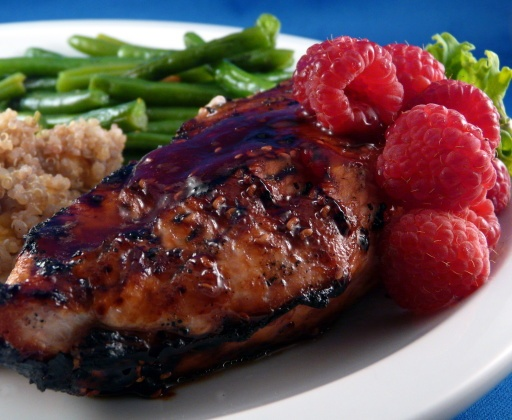background: (0, 8, 410, 262)
